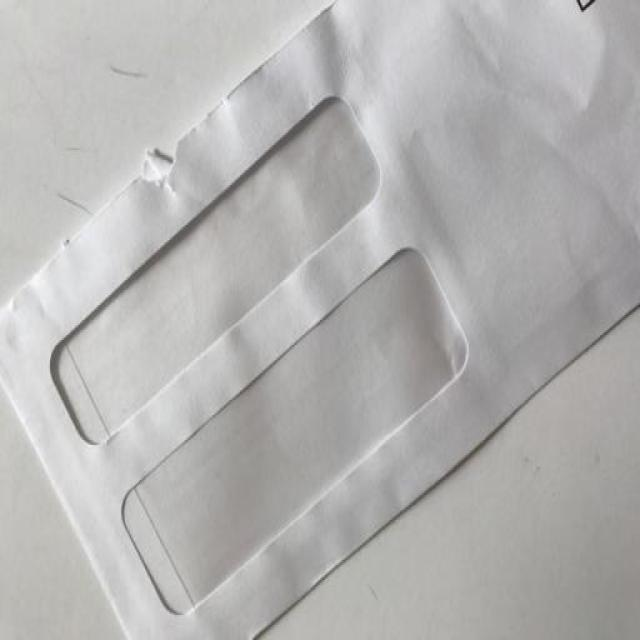Paper: (0, 0, 638, 640)
